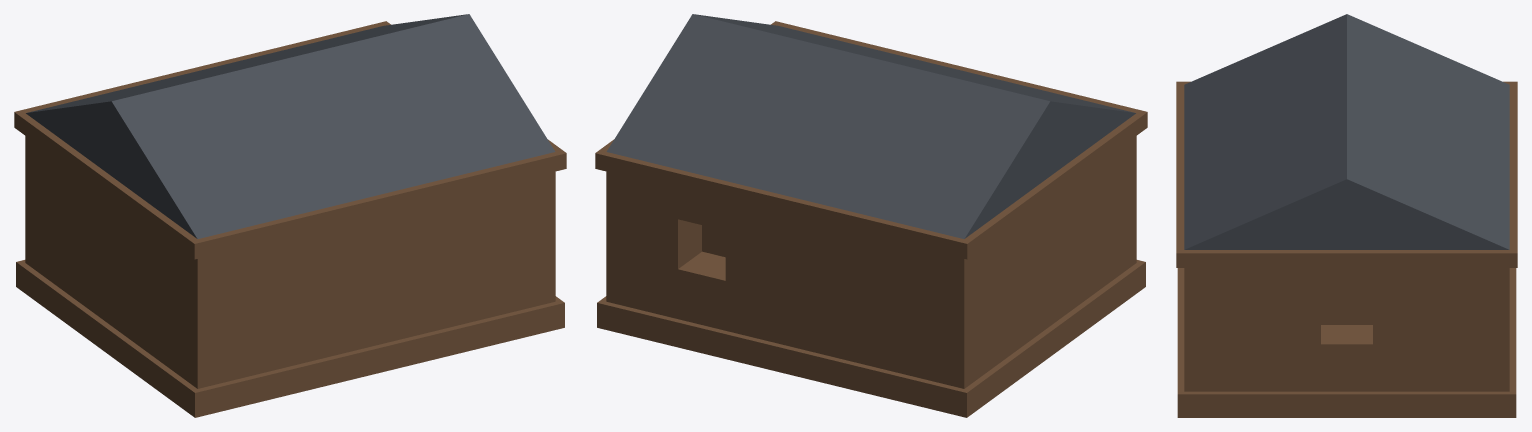
3 views of the same model, side by side, from view 1: azimuth 30°, elevation 25°; view 2: azimuth 150°, elevation 25°; view 3: azimuth 270°, elevation 25° (orthographic). The views are drawn at different scales.
Parts seen in each view (by area): view 1: body_timber, roof_slate, trim_timber; view 2: body_timber, roof_slate, trim_timber; view 3: roof_slate, body_timber, trim_timber.
Boxes of the visible parts, left/top/right/bottom form: body_timber: left=25, top=136, right=555, bottom=388; roof_slate: left=26, top=14, right=555, bottom=238; trim_timber: left=14, top=21, right=566, bottom=417; body_timber: left=606, top=136, right=1136, bottom=388; roof_slate: left=606, top=14, right=1135, bottom=238; trim_timber: left=595, top=21, right=1147, bottom=417; roof_slate: left=1184, top=14, right=1509, bottom=249; body_timber: left=1184, top=268, right=1509, bottom=391; trim_timber: left=1176, top=81, right=1517, bottom=417.
Size of what is drawn, in the model's own units: 6.24 by 4 by 5.24.
